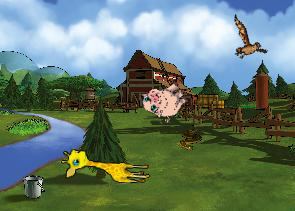eagle: (217, 14, 275, 69)
giraffe: (60, 147, 151, 184)
pig: (137, 72, 193, 127)
